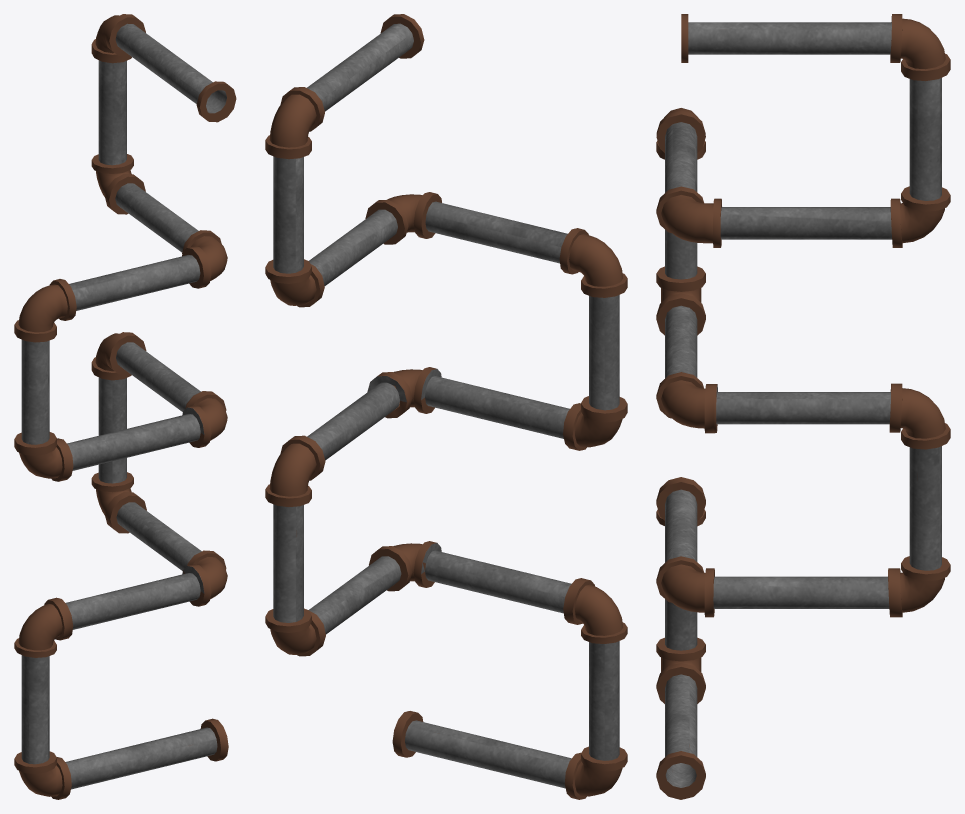
Rendered from pipe_shelf.glb.
3 renders of one model, left to right at view 1: azimuth 30°, elevation 25°; view 2: azimuth 150°, elevation 25°; view 3: azimuth 270°, elevation 25°, orthographic. The views are drawn at different scales.
Visible parts, largest first — view 1: Object_2; view 2: Object_2; view 3: Object_2.
Boxes of the visible parts, bbox=[...] form: Object_2: bbox=[14, 14, 236, 799]; Object_2: bbox=[265, 14, 627, 799]; Object_2: bbox=[656, 14, 950, 799].
Size of the model in its own units: 72.11 by 212 by 72.11.
Materials: 1 (1 with a texture image).
